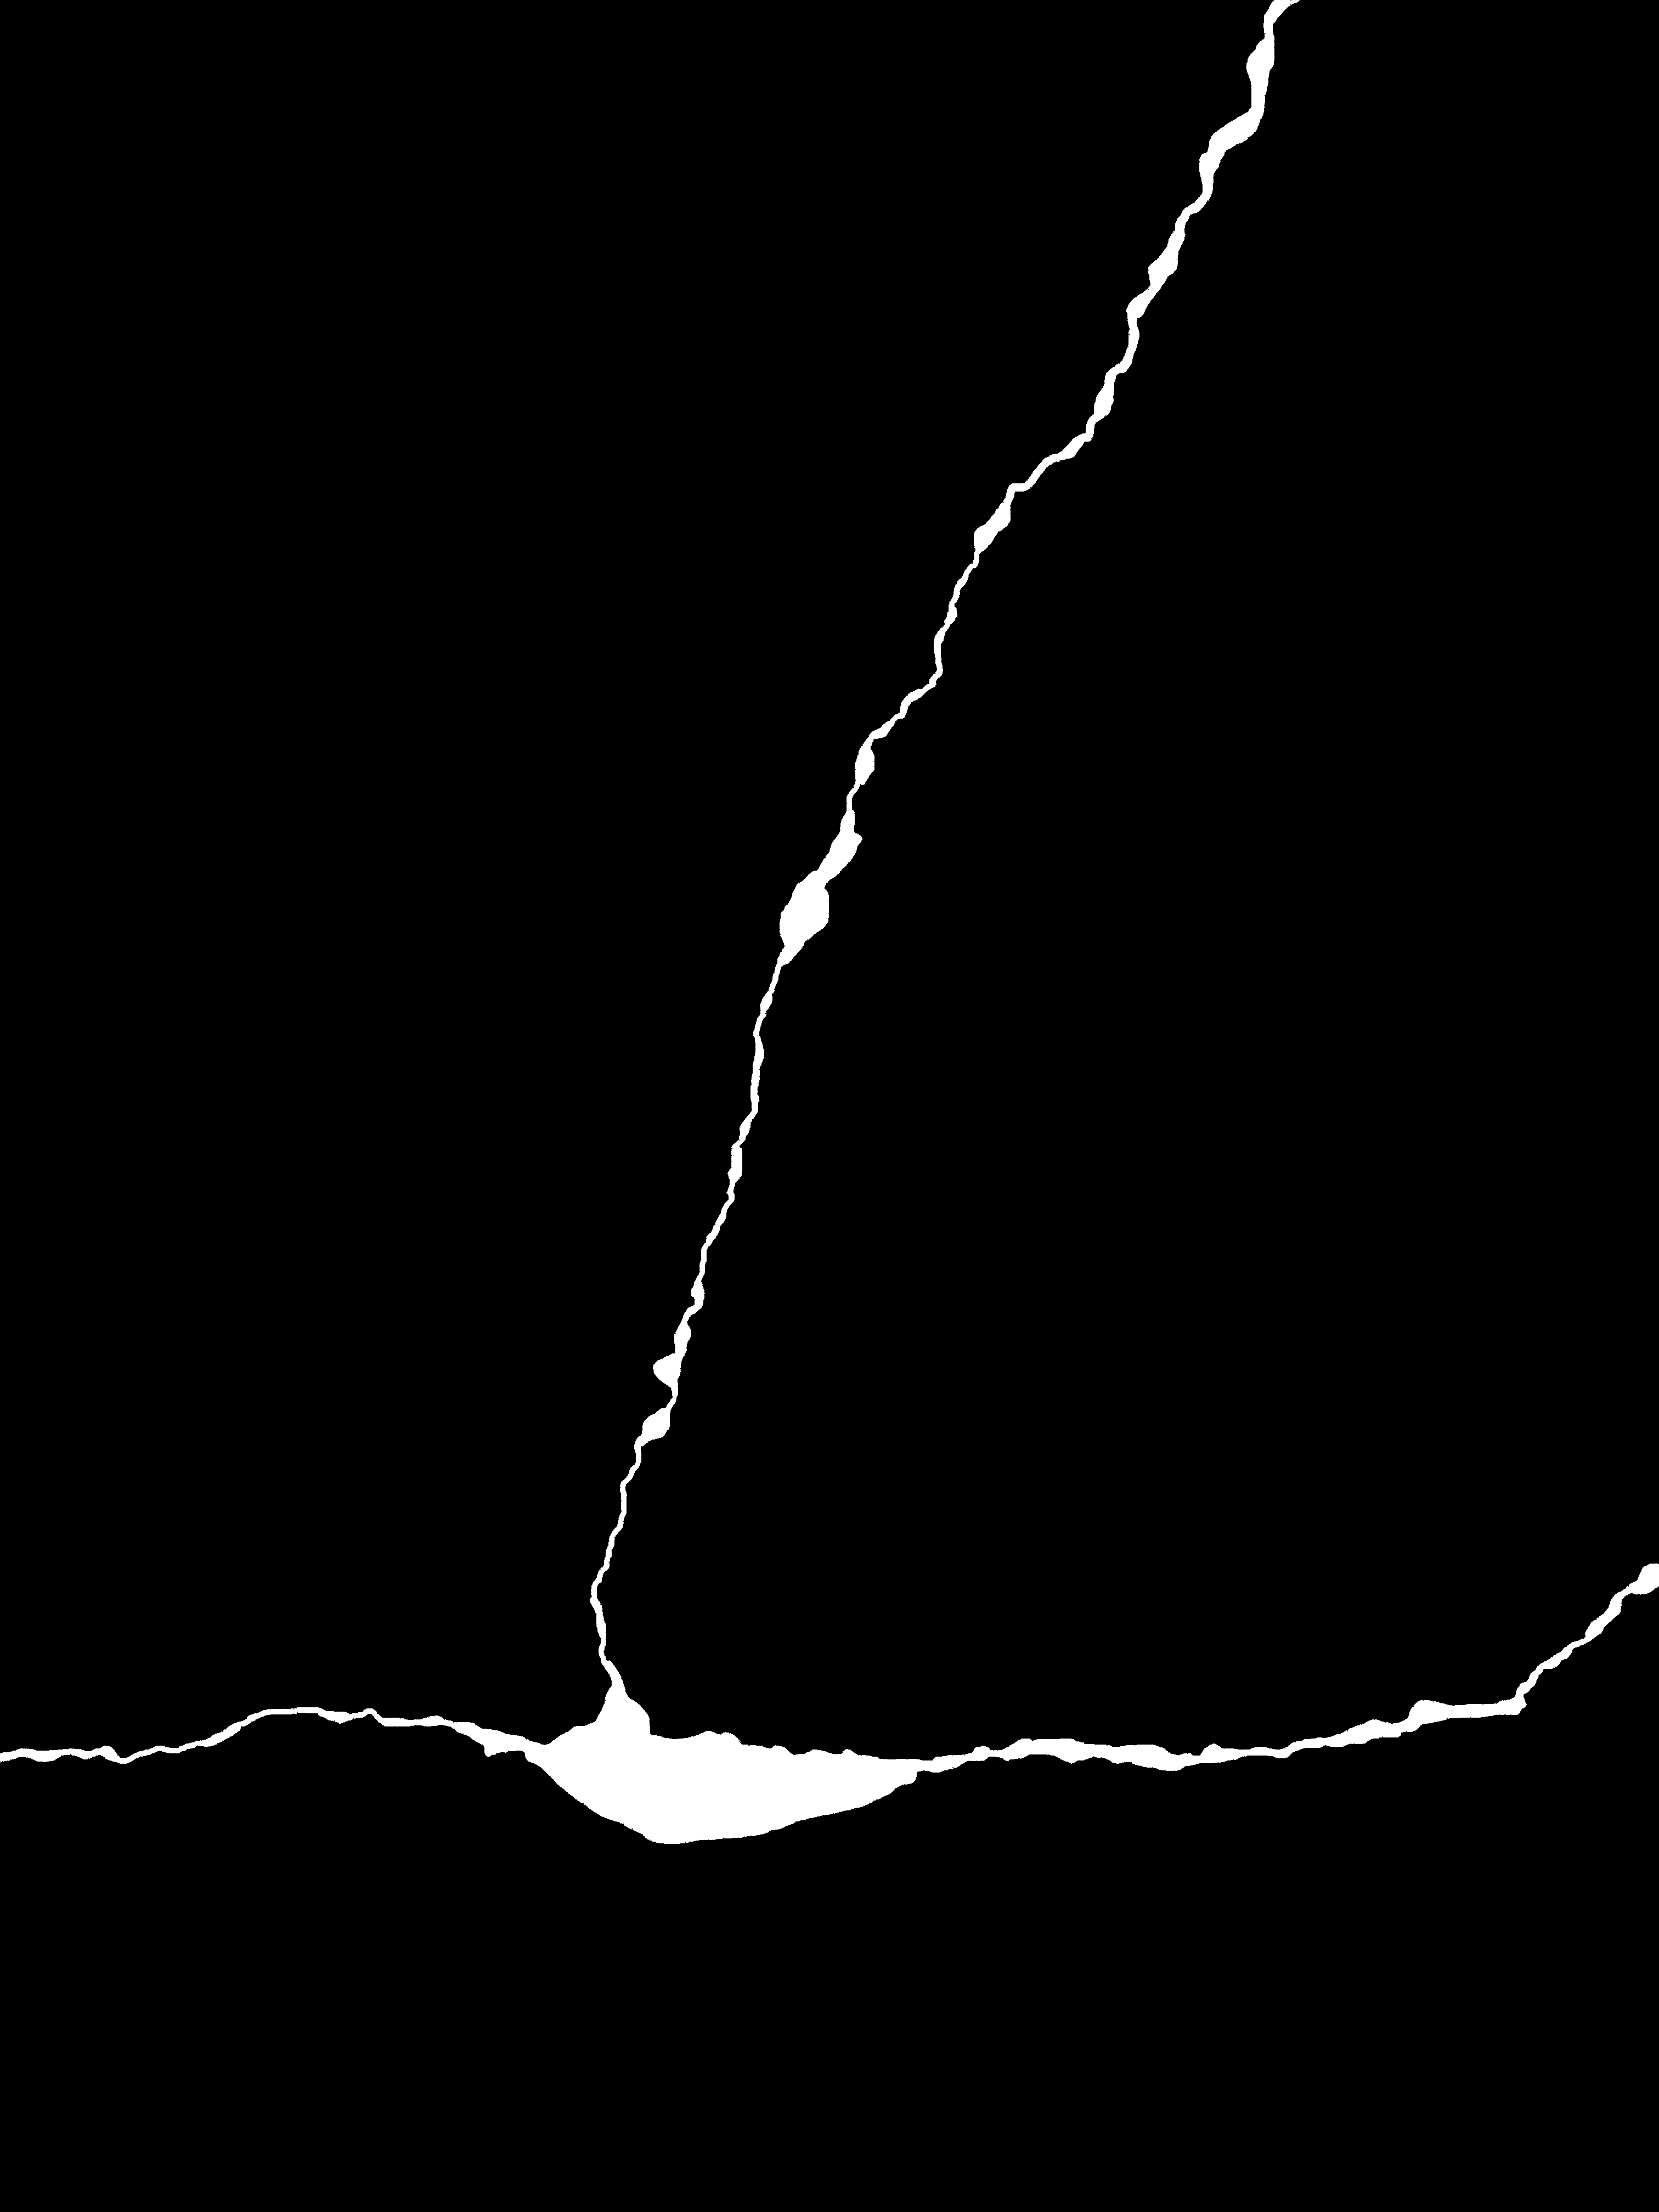Crack: (0, 0, 1659, 1782)
